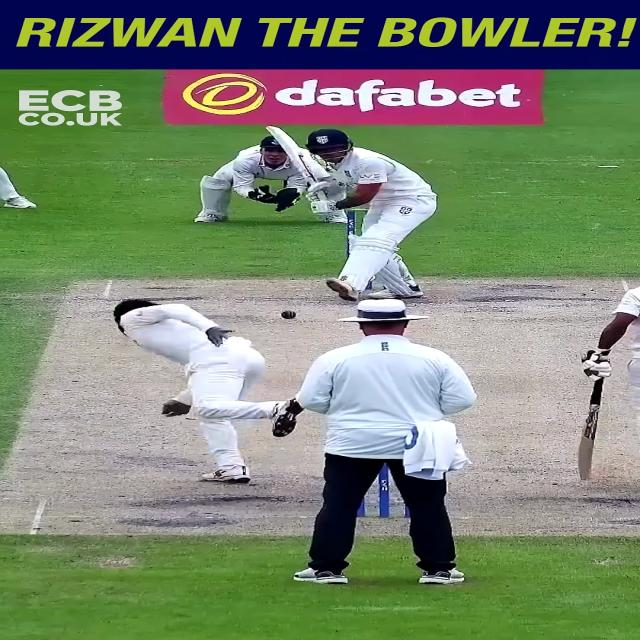ball: (276, 305, 302, 323), (279, 306, 300, 324), (284, 311, 296, 321)
